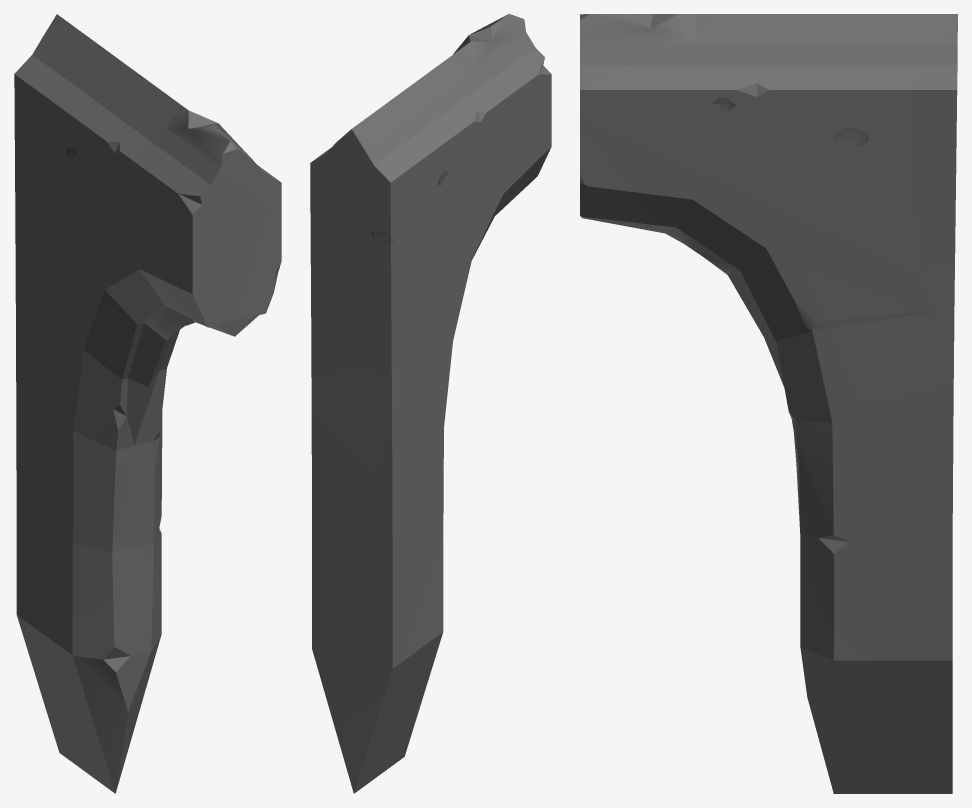
File: SM_Bld_Drawbridge_Connector_01.fbx
3 views of the same model, side by side, from view 1: azimuth 30°, elevation 25°; view 2: azimuth 150°, elevation 25°; view 3: azimuth 270°, elevation 25° (orthographic). The views are drawn at different scales.
Visible parts, largest first — view 1: SM_Bld_Drawbridge_Connector_01; view 2: SM_Bld_Drawbridge_Connector_01; view 3: SM_Bld_Drawbridge_Connector_01.
Boxes of the visible parts, <box> form: SM_Bld_Drawbridge_Connector_01: <box>14,14,281,793</box>; SM_Bld_Drawbridge_Connector_01: <box>310,14,551,793</box>; SM_Bld_Drawbridge_Connector_01: <box>580,14,957,793</box>.
Size of the model in its own units: 110 by 874 by 384.
